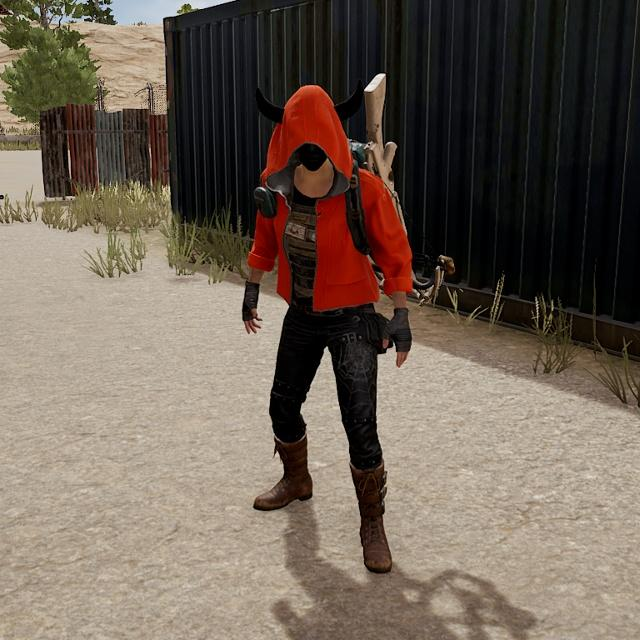head: (277, 84, 344, 182)
people: (237, 82, 409, 580)
